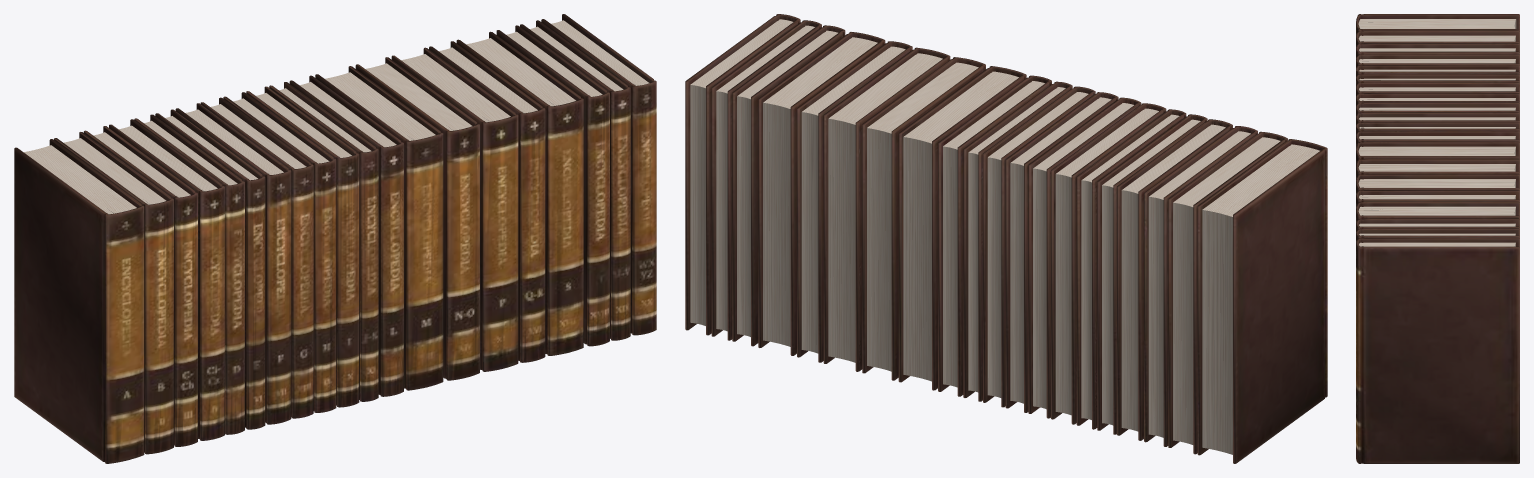
File: book_encyclopedia_set_01.glb
3 views of the same model, side by side, from view 1: azimuth 30°, elevation 25°; view 2: azimuth 150°, elevation 25°; view 3: azimuth 270°, elevation 25° (orthographic). The views are drawn at different scales.
Visible parts, largest first — view 1: book_encyclopedia_set_01_book01, book_encyclopedia_set_01_book13, book_encyclopedia_set_01_book15, book_encyclopedia_set_01_book17, book_encyclopedia_set_01_book14, book_encyclopedia_set_01_book02, book_encyclopedia_set_01_book16, book_encyclopedia_set_01_book04, book_encyclopedia_set_01_book18, book_encyclopedia_set_01_book20, book_encyclopedia_set_01_book07, book_encyclopedia_set_01_book12 (+8 smaller); view 2: book_encyclopedia_set_01_book01, book_encyclopedia_set_01_book13, book_encyclopedia_set_01_book15, book_encyclopedia_set_01_book17, book_encyclopedia_set_01_book14, book_encyclopedia_set_01_book02, book_encyclopedia_set_01_book04, book_encyclopedia_set_01_book16, book_encyclopedia_set_01_book20, book_encyclopedia_set_01_book18, book_encyclopedia_set_01_book07, book_encyclopedia_set_01_book12 (+8 smaller); view 3: book_encyclopedia_set_01_book20, book_encyclopedia_set_01_book13, book_encyclopedia_set_01_book01, book_encyclopedia_set_01_book17, book_encyclopedia_set_01_book15, book_encyclopedia_set_01_book14, book_encyclopedia_set_01_book02, book_encyclopedia_set_01_book16, book_encyclopedia_set_01_book03, book_encyclopedia_set_01_book12, book_encyclopedia_set_01_book04, book_encyclopedia_set_01_book07 (+8 smaller).
Boxes of the visible parts, <box> form: book_encyclopedia_set_01_book01: <box>14,139,144,463</box>; book_encyclopedia_set_01_book13: <box>315,66,443,390</box>; book_encyclopedia_set_01_book15: <box>391,47,518,371</box>; book_encyclopedia_set_01_book17: <box>456,31,583,355</box>; book_encyclopedia_set_01_book14: <box>355,57,479,380</box>; book_encyclopedia_set_01_book02: <box>54,132,173,454</box>; book_encyclopedia_set_01_book16: <box>429,41,545,362</box>; book_encyclopedia_set_01_book04: <box>109,119,224,440</box>; book_encyclopedia_set_01_book18: <box>496,25,609,346</box>; book_encyclopedia_set_01_book20: <box>541,14,656,335</box>; book_encyclopedia_set_01_book07: <box>175,103,291,424</box>; book_encyclopedia_set_01_book12: <box>289,75,403,396</box>; book_encyclopedia_set_01_book01: <box>1197,139,1327,463</box>; book_encyclopedia_set_01_book13: <box>898,66,1026,390</box>; book_encyclopedia_set_01_book15: <box>823,47,950,371</box>; book_encyclopedia_set_01_book17: <box>758,32,885,355</box>; book_encyclopedia_set_01_book14: <box>862,57,985,380</box>; book_encyclopedia_set_01_book02: <box>1168,131,1287,454</box>; book_encyclopedia_set_01_book04: <box>1117,119,1232,440</box>; book_encyclopedia_set_01_book16: <box>797,41,912,362</box>; book_encyclopedia_set_01_book20: <box>685,14,800,335</box>; book_encyclopedia_set_01_book18: <box>732,25,845,346</box>; book_encyclopedia_set_01_book07: <box>1051,103,1166,424</box>; book_encyclopedia_set_01_book12: <box>938,75,1051,396</box>; book_encyclopedia_set_01_book20: <box>1356,238,1519,463</box>; book_encyclopedia_set_01_book13: <box>1356,142,1519,165</box>; book_encyclopedia_set_01_book01: <box>1356,14,1519,35</box>; book_encyclopedia_set_01_book17: <box>1356,202,1519,221</box>; book_encyclopedia_set_01_book15: <box>1356,174,1519,194</box>; book_encyclopedia_set_01_book14: <box>1356,159,1519,180</box>; book_encyclopedia_set_01_book02: <box>1356,30,1519,47</box>; book_encyclopedia_set_01_book16: <box>1356,190,1519,222</box>; book_encyclopedia_set_01_book03: <box>1356,43,1519,58</box>; book_encyclopedia_set_01_book12: <box>1356,131,1519,149</box>; book_encyclopedia_set_01_book04: <box>1356,54,1519,70</box>; book_encyclopedia_set_01_book07: <box>1356,82,1519,96</box>.
Size of the model in its own units: 0.5513 by 0.2374 by 0.1631.
Materials: 2 (2 with a texture image).
